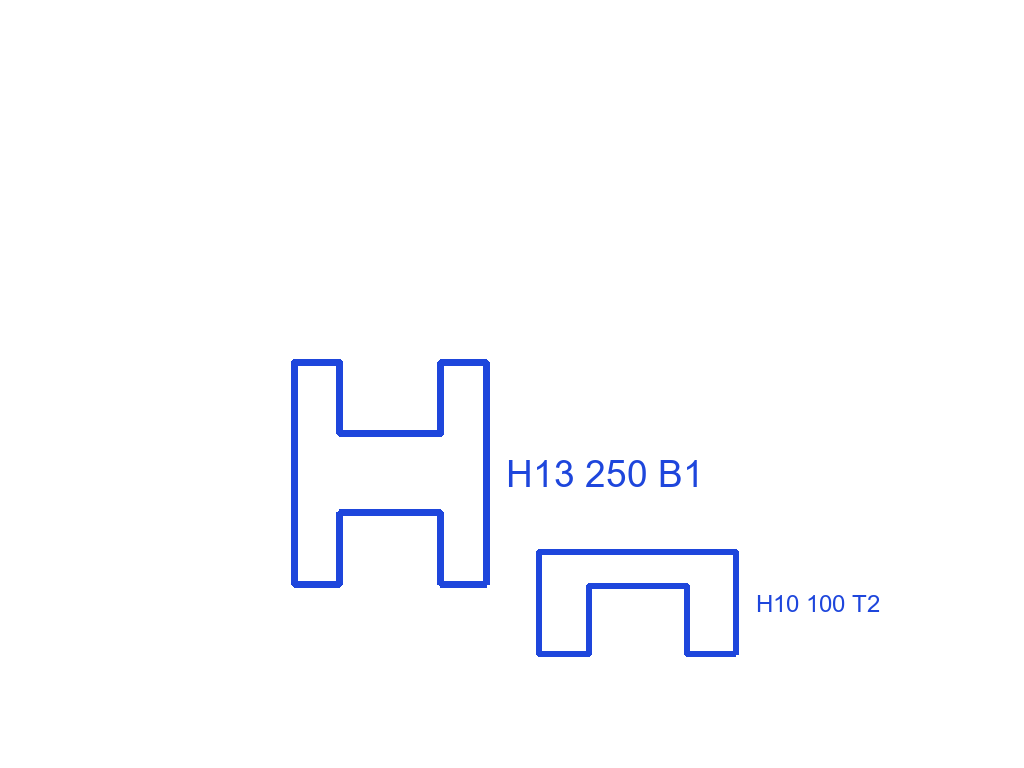shape: (289, 357, 492, 590), (535, 547, 741, 659)
text: (504, 458, 706, 489), (754, 593, 882, 614)
